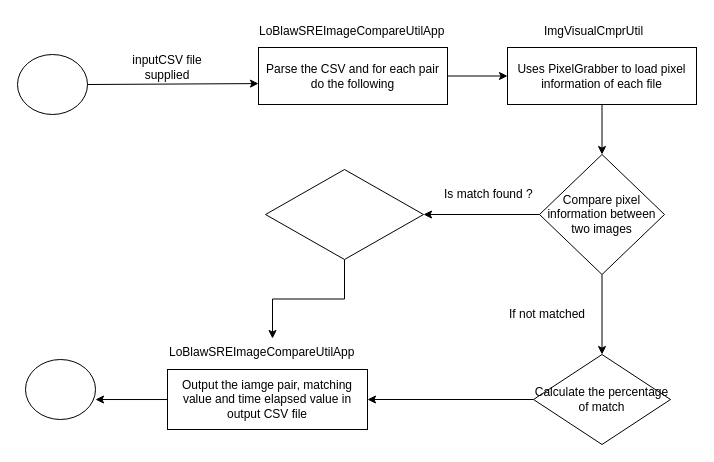
Image size: 714x462. Some labels were removed from this diagram. The shapes that lost their labels are listed below. From the top down, each one's centre as x and y in pixels, then its label:
(52,84): Start
(344,214): If the two pixel data is matched then output 0
(60,389): End
